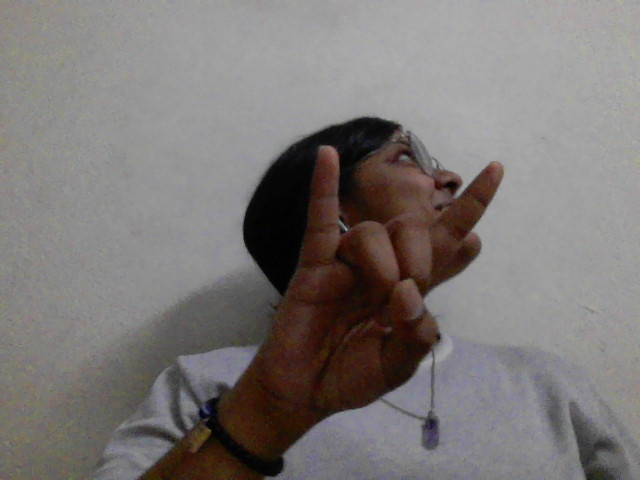I love you: (232, 137, 515, 429)
